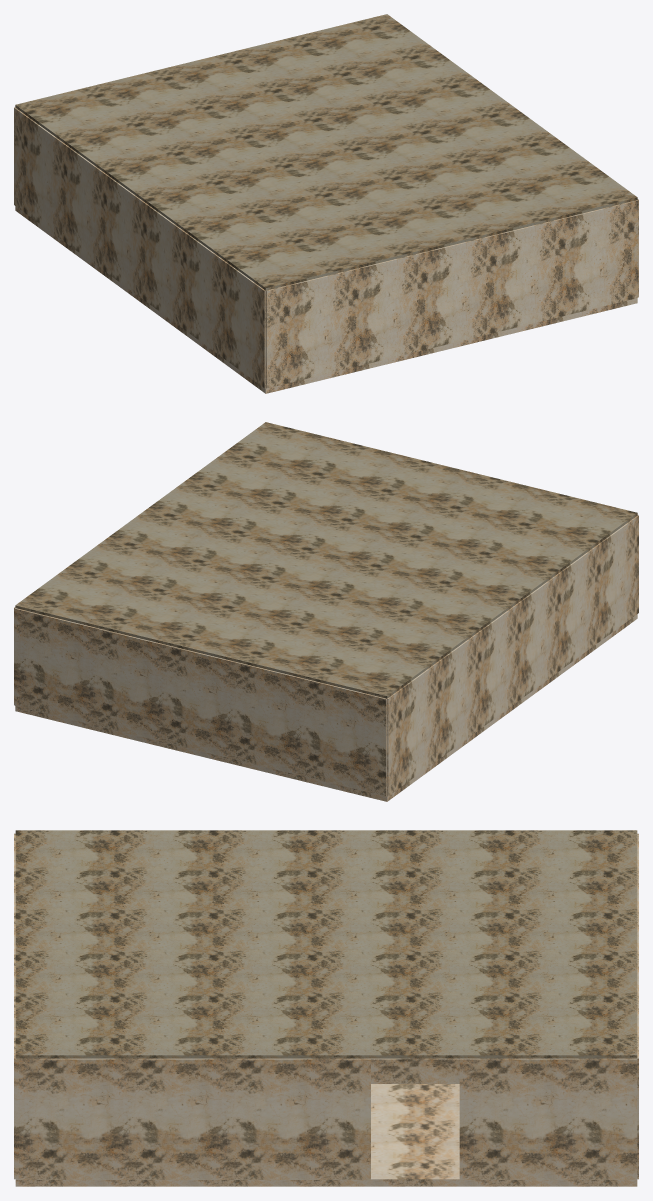
File: room_shell.glb
3 views of the same model, one above another, from view 1: azimuth 30°, elevation 25°; view 2: azimuth 150°, elevation 25°; view 3: azimuth 270°, elevation 25° (orthographic). The views are drawn at different scales.
Size of the model in its own units: 12.08 by 3.26 by 14.08.
Materials: 3 (3 with a texture image).
